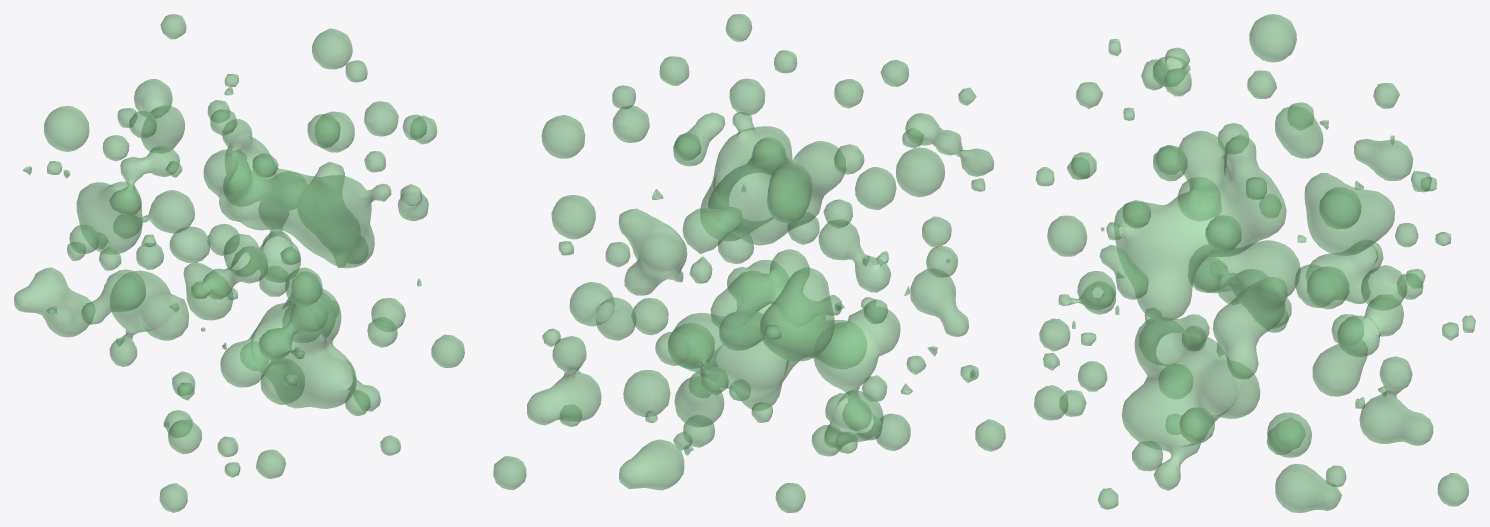
File: blob-outer.glb
3 views of the same model, side by side, from view 1: azimuth 30°, elevation 25°; view 2: azimuth 150°, elevation 25°; view 3: azimuth 270°, elevation 25° (orthographic). The views are drawn at different scales.
Parts seen in each view (by area): view 1: OUTER; view 2: OUTER; view 3: OUTER.
Part boxes in pixels (x1=…): OUTER: x1=14, y1=14, x2=464, y2=512; OUTER: x1=493, y1=14, x2=1005, y2=512; OUTER: x1=1034, y1=14, x2=1475, y2=512.
Bounding box in the file's own units: 39.29 × 42.05 × 42.76.
1 material, 1 textured.
